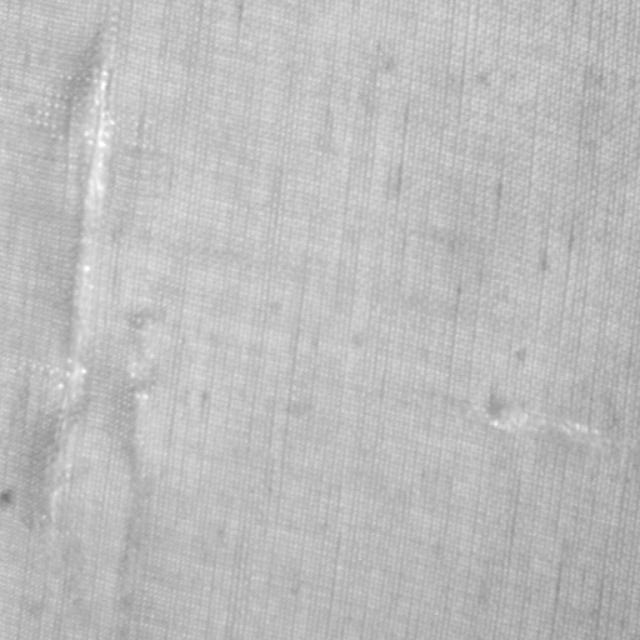thread error: (22, 1, 123, 532), (459, 376, 639, 469)
